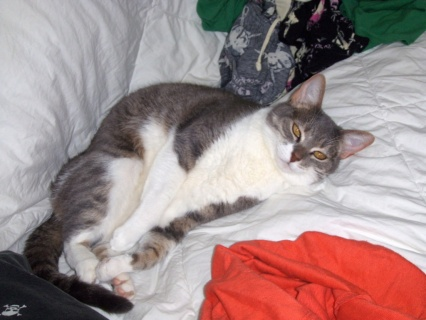Cat: (18, 72, 372, 316)
